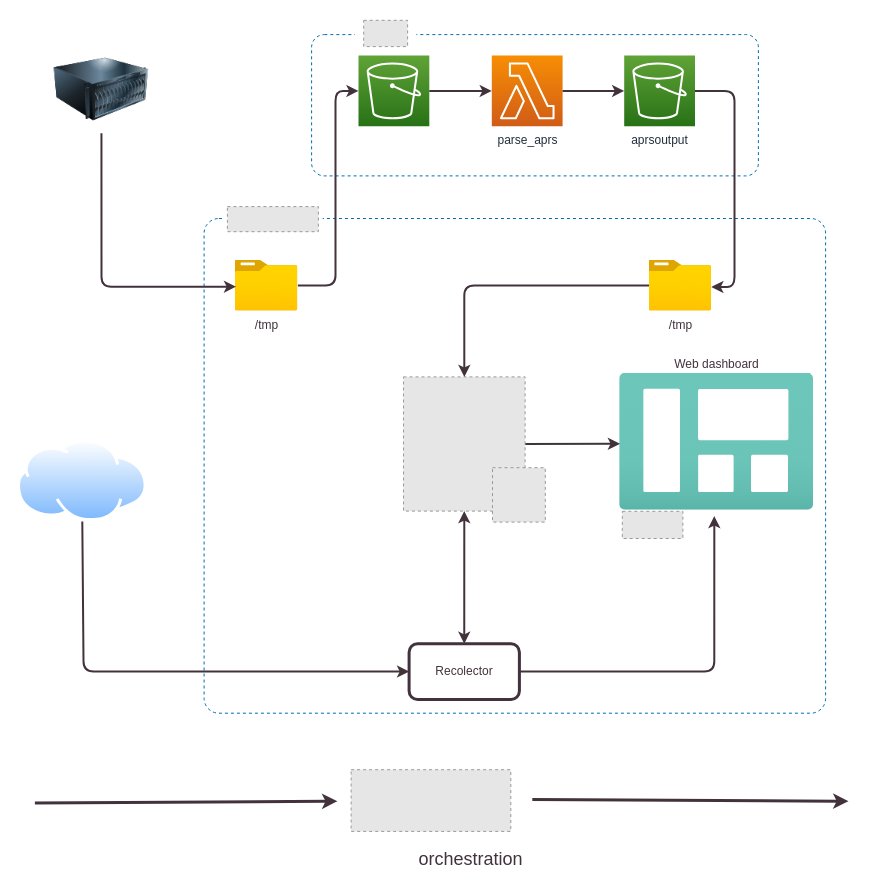
The diagram is 875 pixels wide and 893 high, and some of its shapes have lost their labels. Grey dashed boxes stand in for pictures. The centre of each missing label's shape, as x and y in pixels:
"APRS-IS server" belongs at pixel 101 89.
"aprsinput" belongs at pixel 393 90.
"QRZ.COM" belongs at pixel 82 480.
